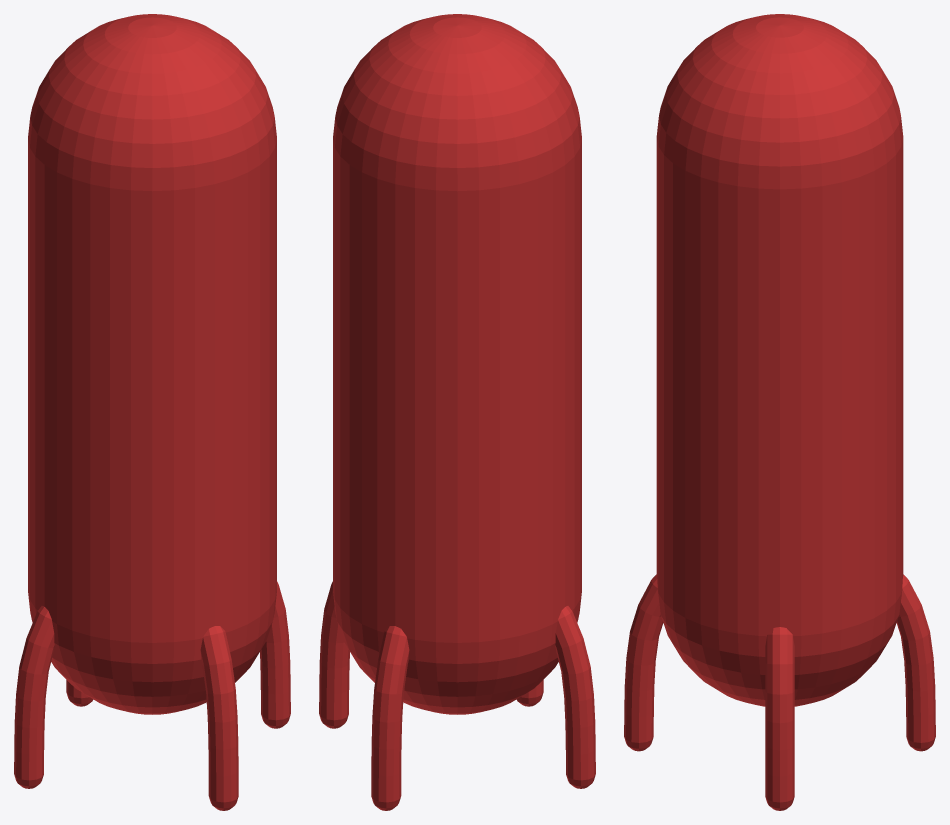
File: Bacteria_Rad25_1_3.dae
The picture shows the model from 3 angles, left to right: view 1: azimuth 30°, elevation 25°; view 2: azimuth 150°, elevation 25°; view 3: azimuth 270°, elevation 25°; orthographic projection.
Parts seen in each view (by area): view 1: Bacteria_Rad25_1_3; view 2: Bacteria_Rad25_1_3; view 3: Bacteria_Rad25_1_3.
Part boxes in pixels (<box>): Bacteria_Rad25_1_3: <box>14,14,290,810</box>; Bacteria_Rad25_1_3: <box>319,14,595,810</box>; Bacteria_Rad25_1_3: <box>624,14,935,810</box>.
Bounding box in the file's own units: 63.18 × 162 × 63.18.
